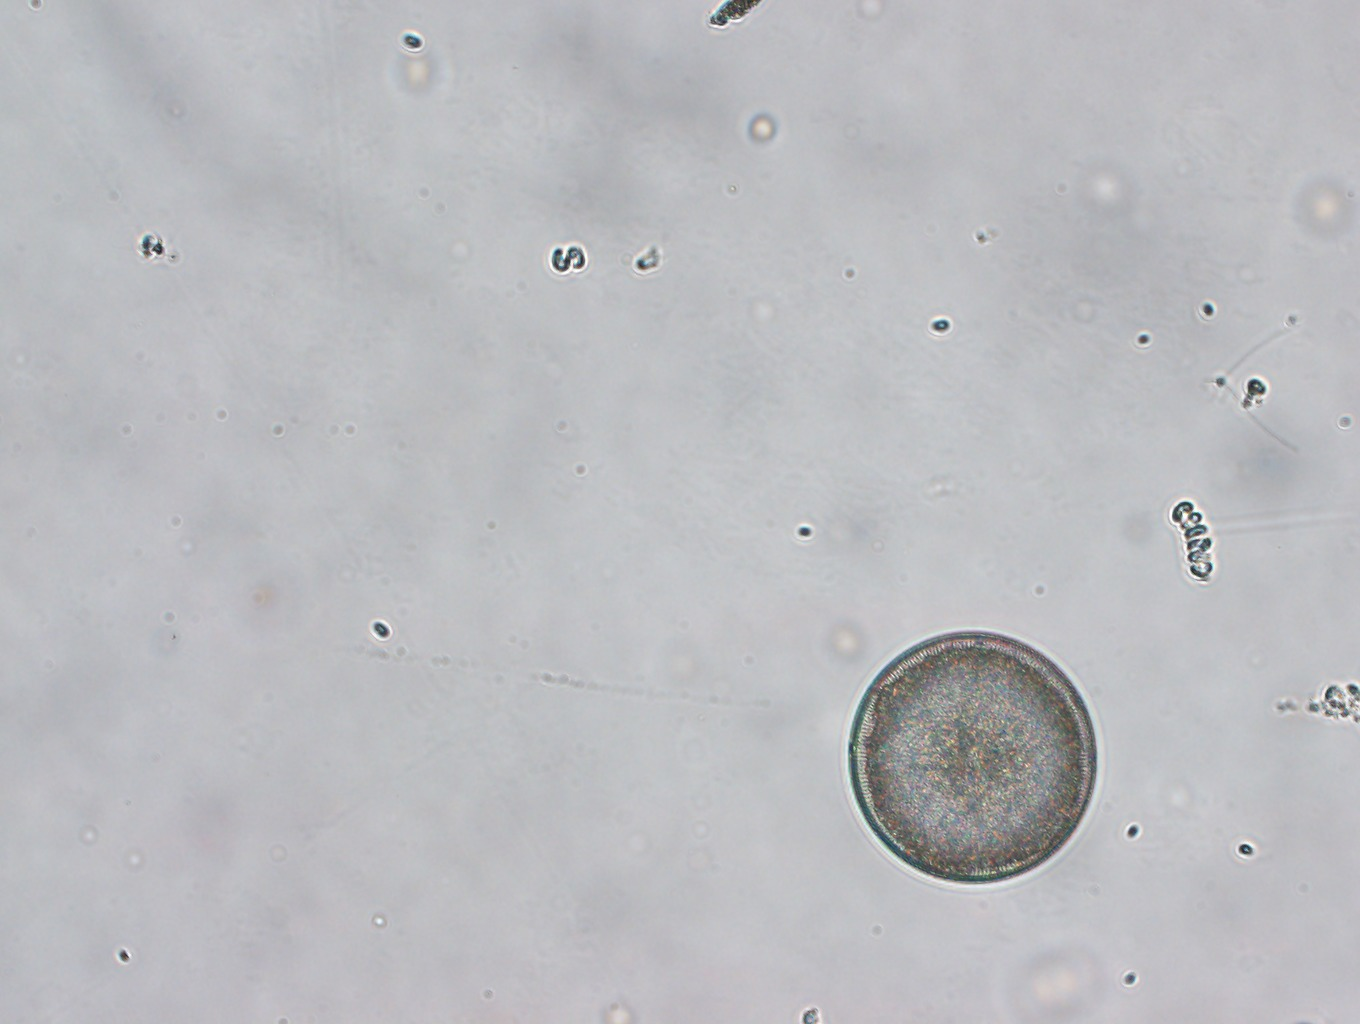coscinodiscus: (846, 629, 1096, 884)
